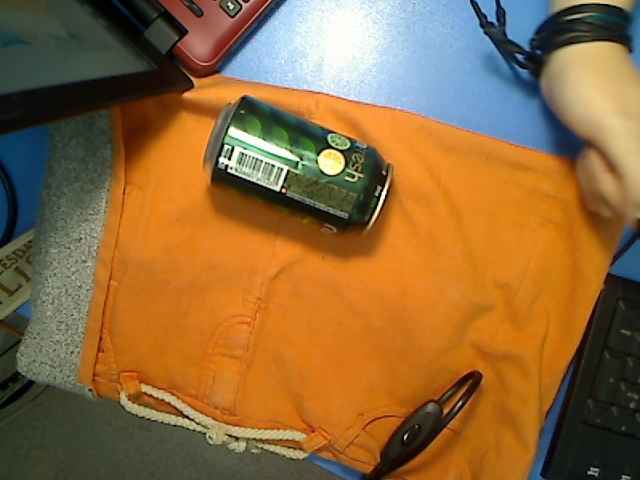can: (201, 95, 394, 237)
